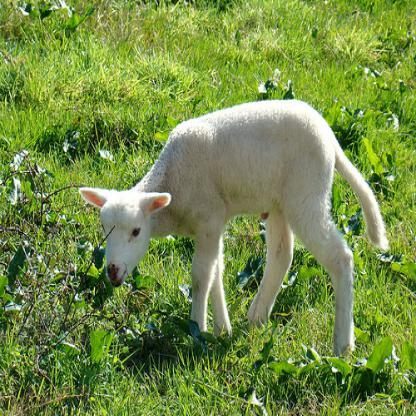sheep: (78, 98, 390, 361)
